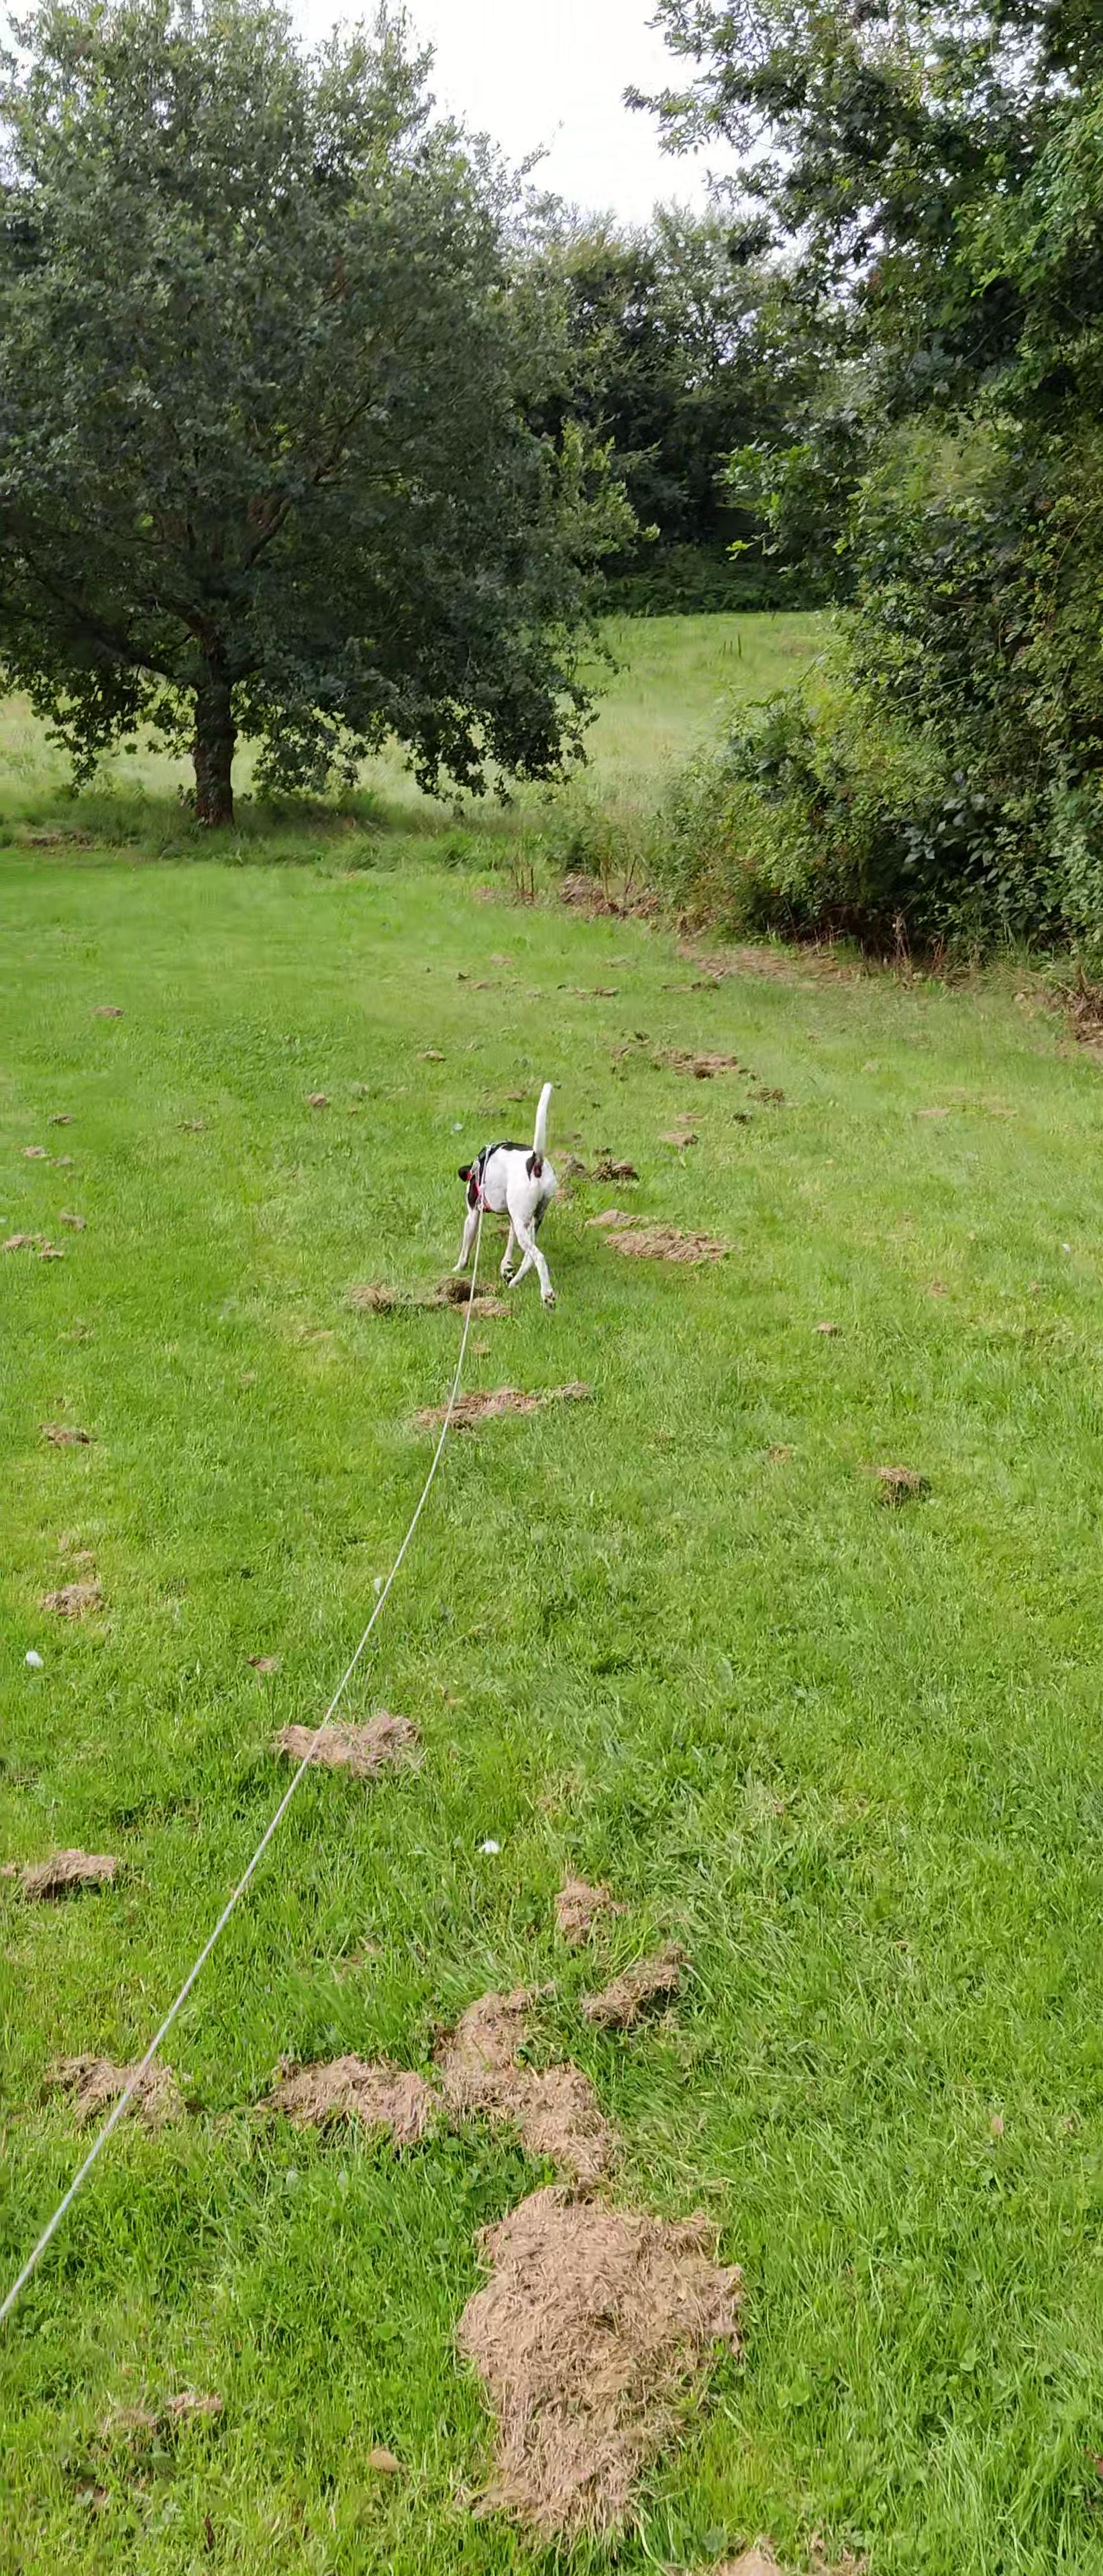Dog: (434, 1063, 598, 1336)
